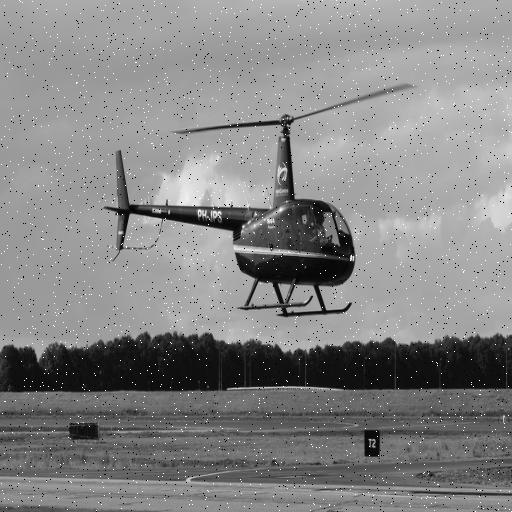helicopter: (102, 75, 424, 322)
